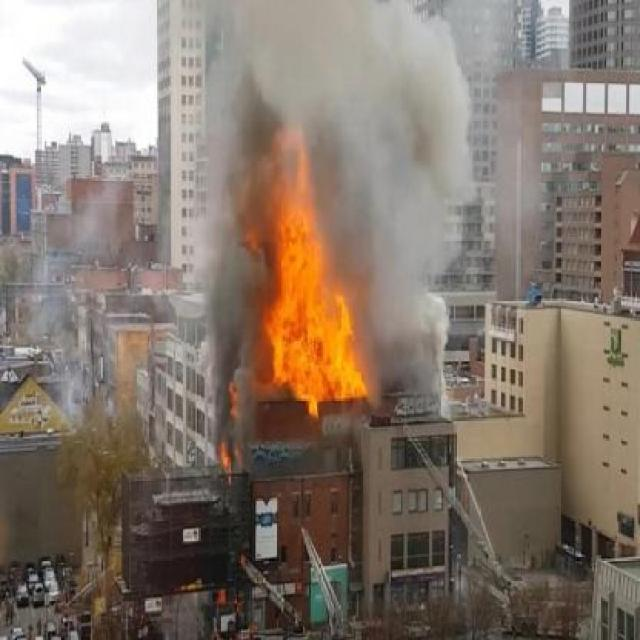Fire: (183, 127, 434, 486)
Smoke: (294, 10, 542, 256)
